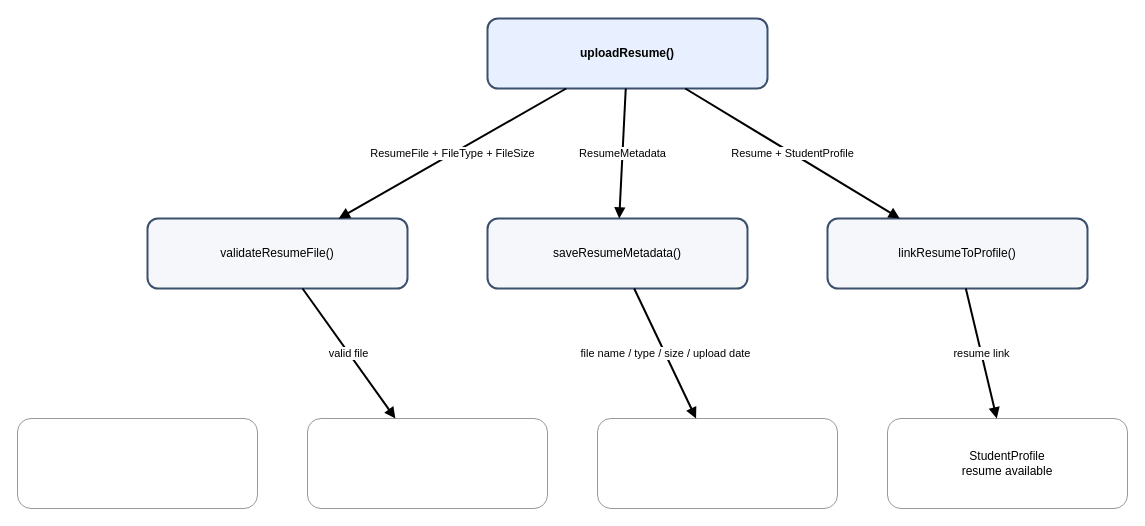
This 1145x526 diagram has some shape labels left out. Each missing label, with the centre of its shape:
"Database metadata + links" belongs at [717,463].
"File / Blob Storage actual file" belongs at [427,463].
"ResumeFile selected by student" belongs at [137,463].
